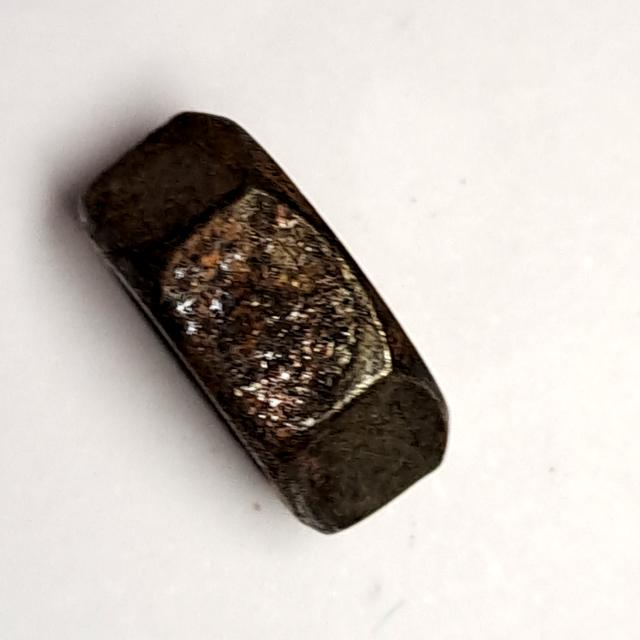Side_Rust: (51, 96, 478, 554)
